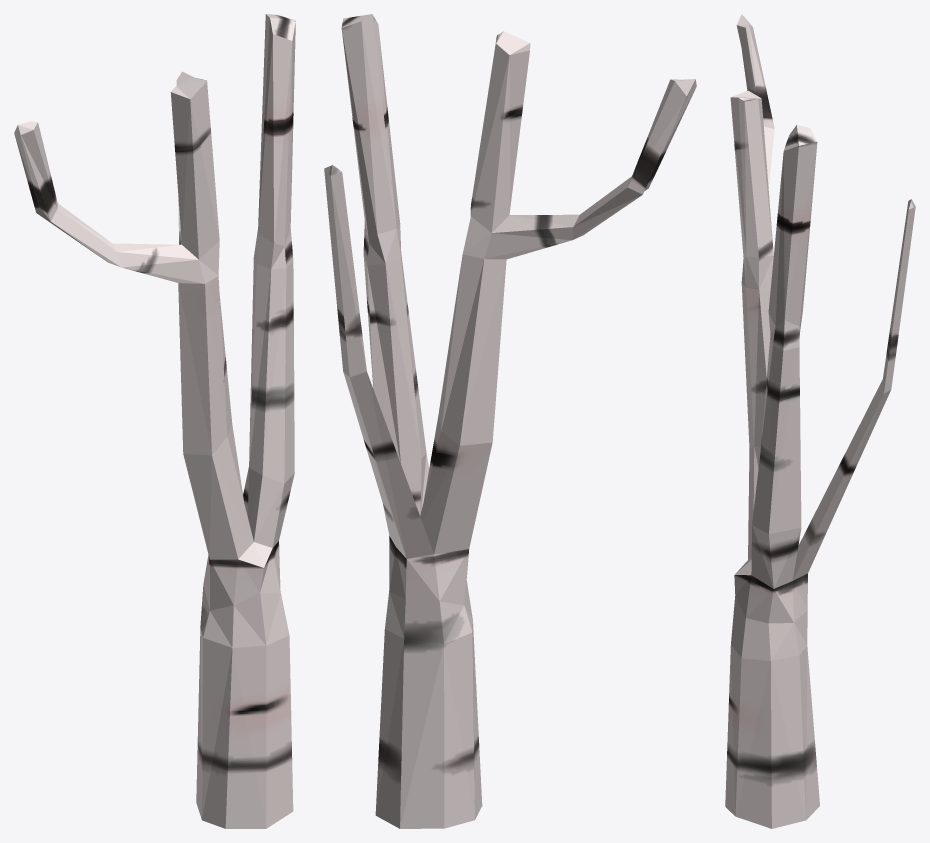
The model's file is Dry-V3_Birch_2.fbx.
The picture shows the model from 3 angles, left to right: view 1: azimuth 30°, elevation 25°; view 2: azimuth 150°, elevation 25°; view 3: azimuth 270°, elevation 25°; orthographic projection. The views are drawn at different scales.
Parts seen in each view (by area): view 1: Dry-V3 Birch 2_LOD0; view 2: Dry-V3 Birch 2_LOD0; view 3: Dry-V3 Birch 2_LOD0.
Part boxes in pixels (left/top/right/bottom): Dry-V3 Birch 2_LOD0: left=14, top=14, right=295, bottom=828; Dry-V3 Birch 2_LOD0: left=324, top=14, right=696, bottom=828; Dry-V3 Birch 2_LOD0: left=725, top=14, right=915, bottom=828.
Size of what is drawn, in the model's own units: 194 by 462 by 114.
